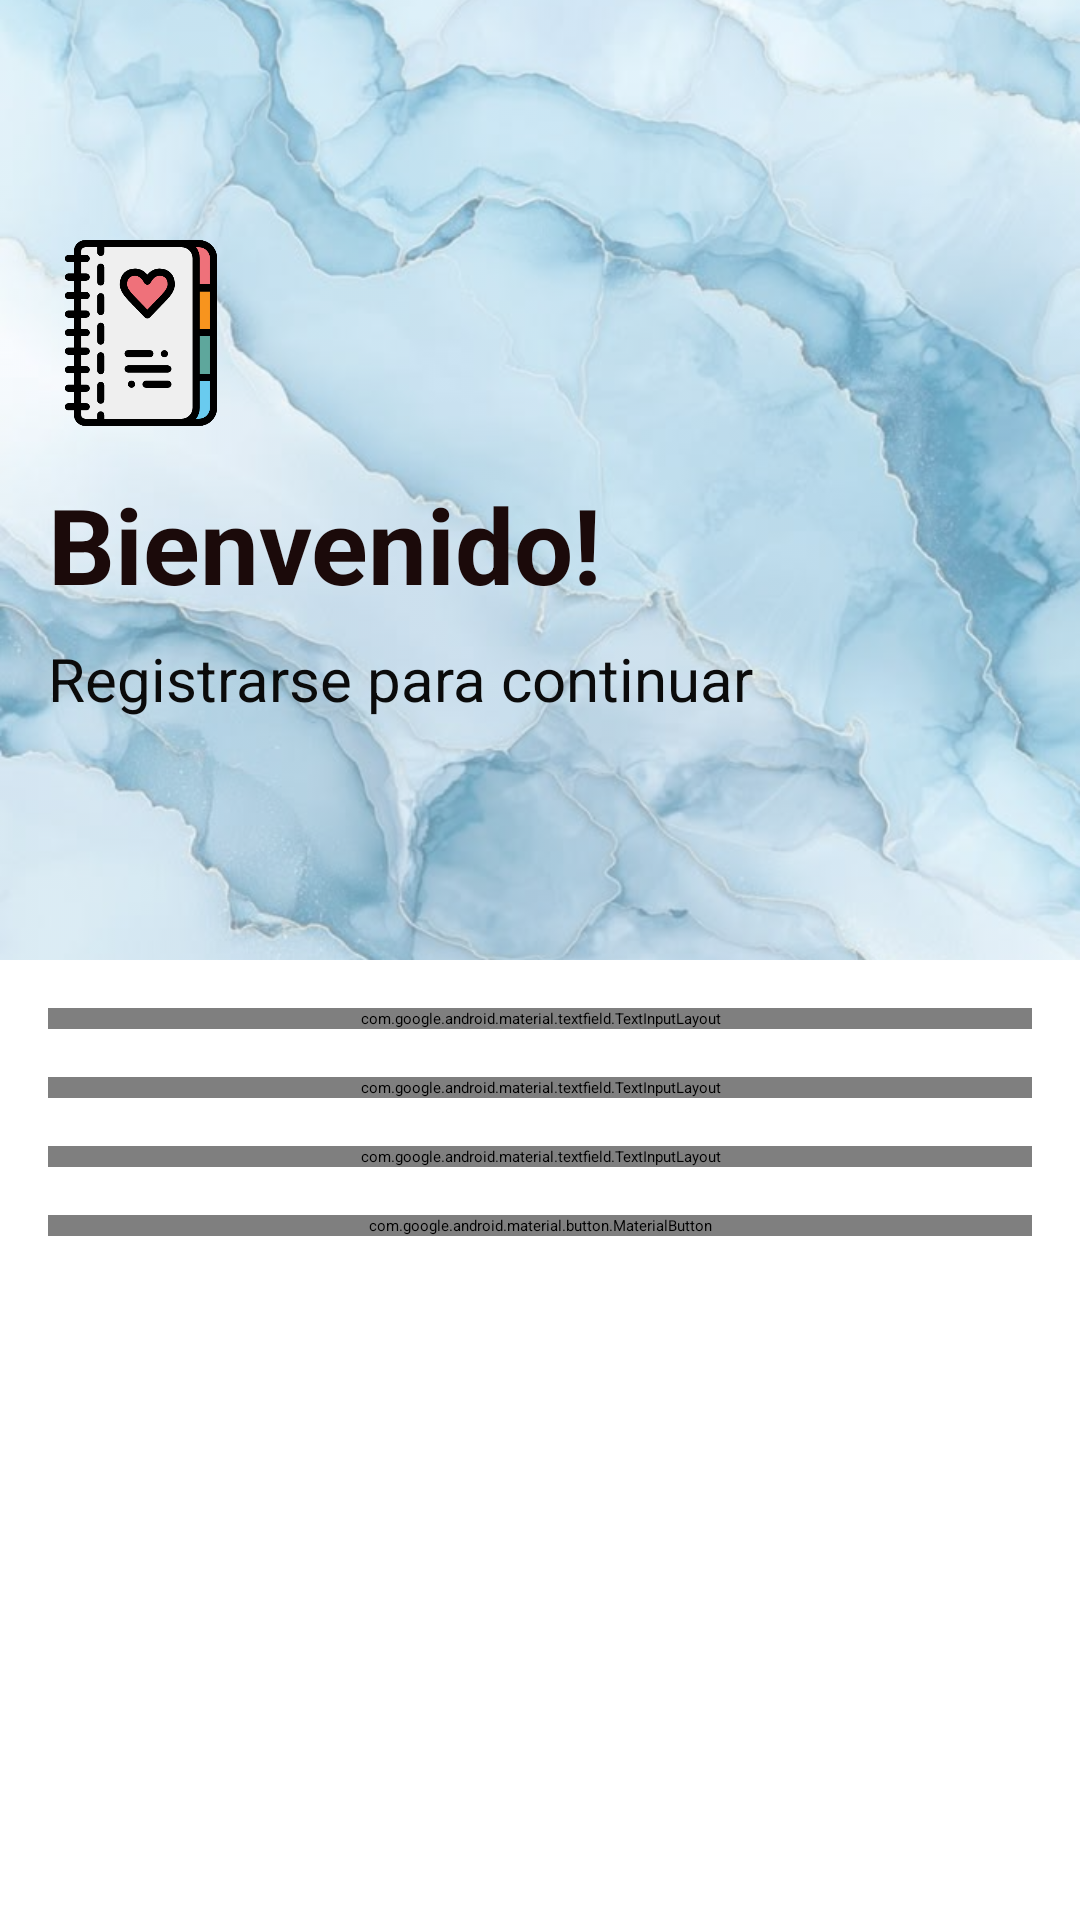

Icon click points for this 1080x1920 phone screenshot, format (x=x, y=y):
agenda: (x=141, y=333)
